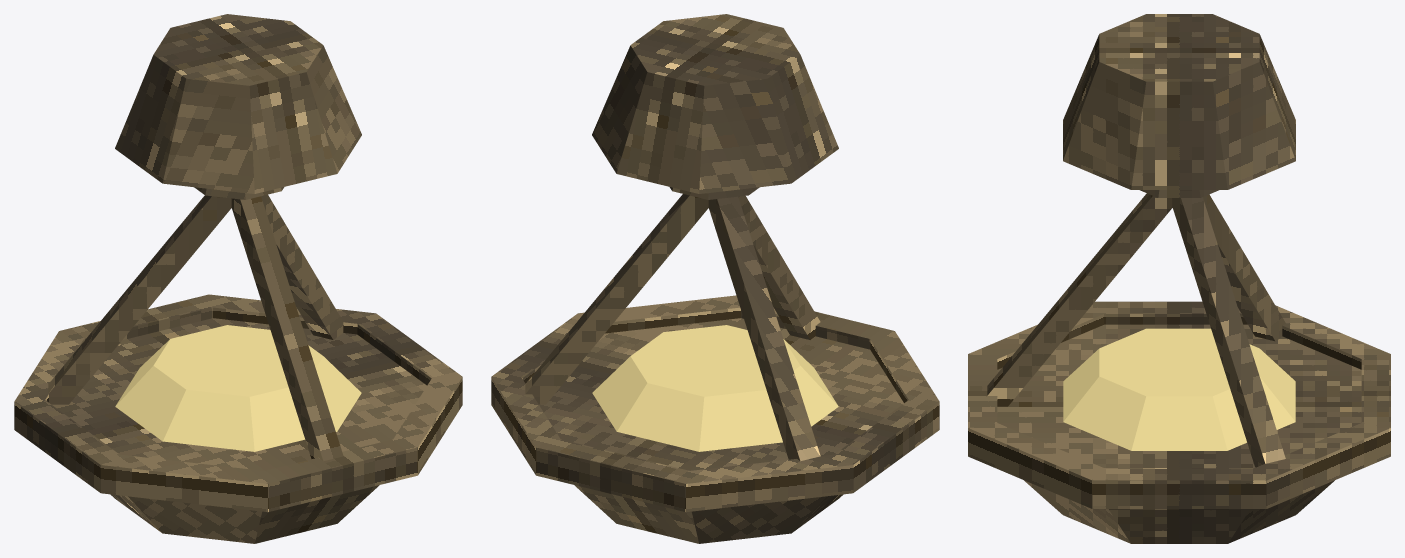
File: light_temple_bowl.glb
The picture shows the model from 3 angles, left to right: view 1: azimuth 30°, elevation 25°; view 2: azimuth 150°, elevation 25°; view 3: azimuth 270°, elevation 25°; orthographic projection.
Parts seen in each view (by area): view 1: light_temple_bowl; view 2: light_temple_bowl; view 3: light_temple_bowl.
Part boxes in pixels (box(x1,y1,x2,y2)): light_temple_bowl: box(14, 14, 462, 543); light_temple_bowl: box(491, 14, 939, 543); light_temple_bowl: box(968, 14, 1390, 543).
Bounding box in the file's own units: 0.5359 × 0.625 × 0.5359.
Materials: 2 (1 with a texture image).
